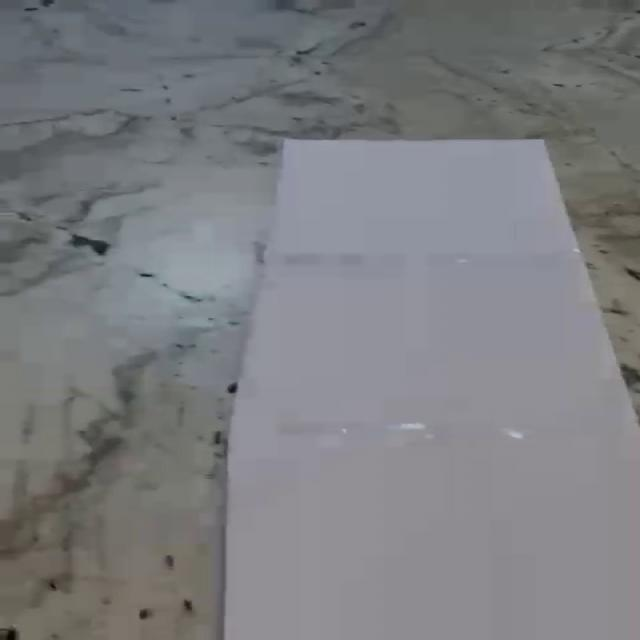road: (223, 139, 640, 640)
